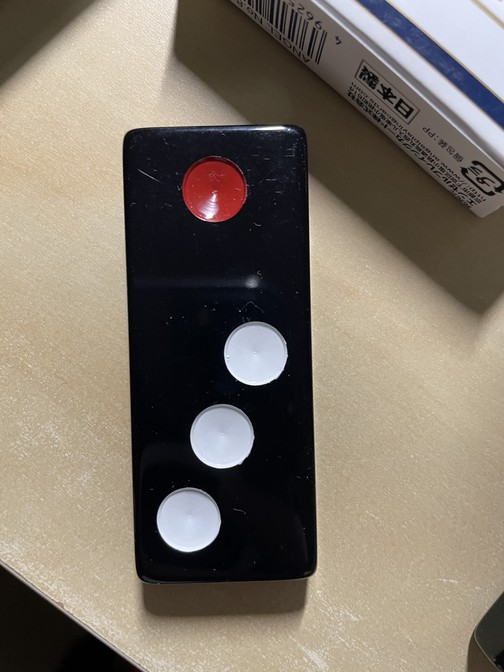goose: (123, 126, 320, 583)
